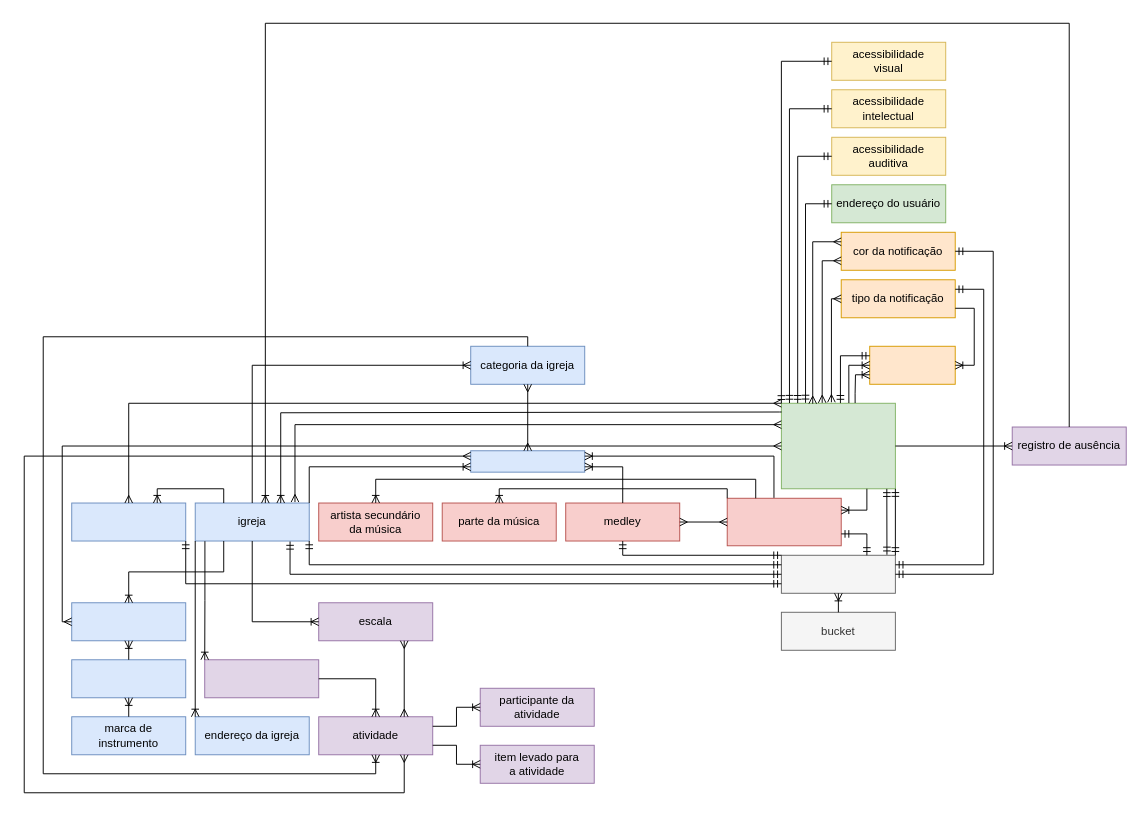
The diagram is 1143 pixels wide and 818 high, and some of its shapes have lost their labels. Each missing label, with the centre of its shape:
arquivo: point (837, 573)
faixa da igreja: point (527, 461)
instrumento da igreja: point (128, 621)
ministério de louvor: point (128, 521)
modelo de instrumento: point (128, 678)
música: point (783, 521)
notificação: point (912, 364)
publicação: point (261, 678)
usuário: point (837, 445)
